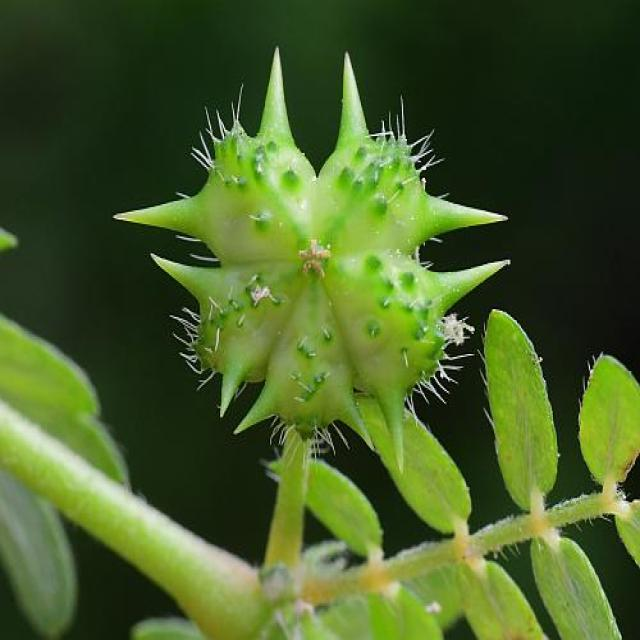Gokharu: (13, 291, 531, 640), (136, 56, 478, 431), (343, 318, 640, 640)
